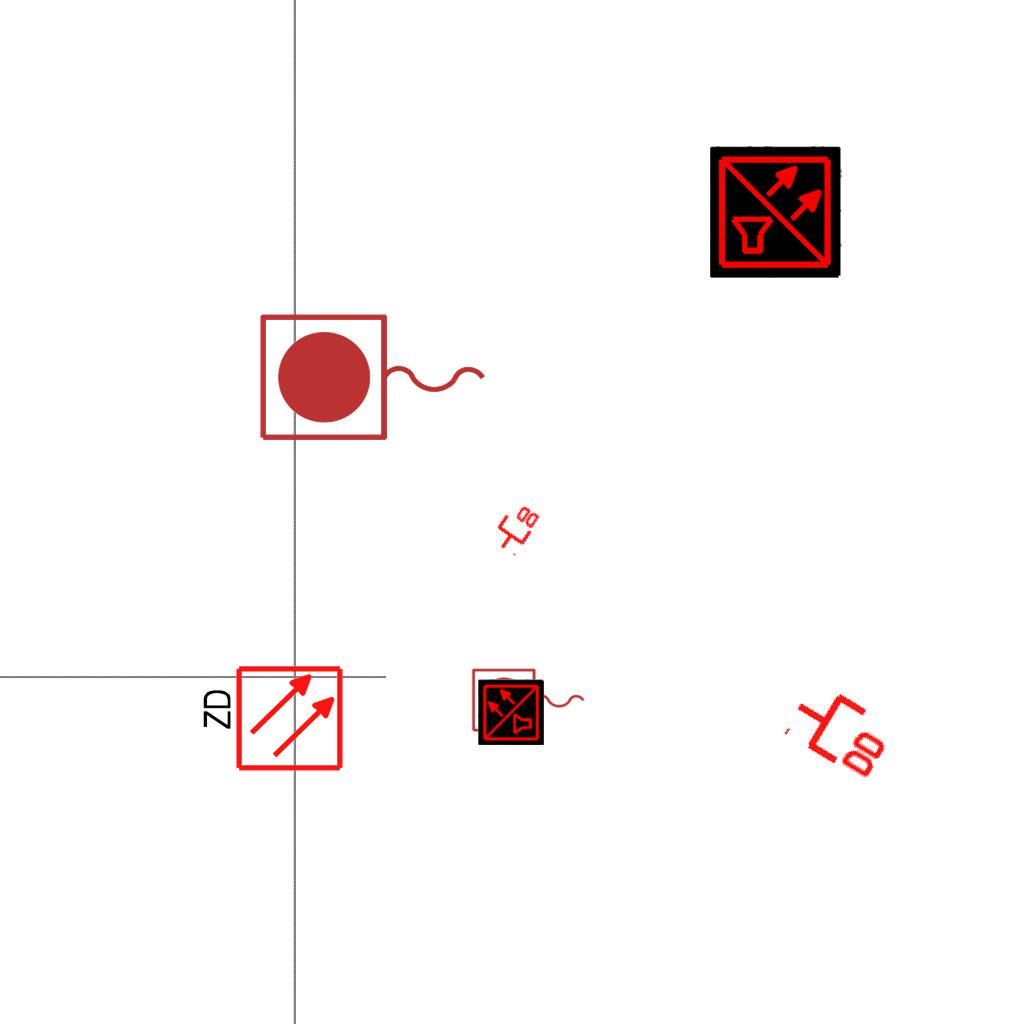Datenanschluss_zweifach: (779, 673, 904, 786), (486, 496, 544, 559)
OKW_Multisensormelder_(Kombination_optischer_Rauch-Kahlenmonoxid_Waerme-Melder): (710, 146, 842, 278), (478, 679, 544, 745)
ZD_Melder_in_Zwischendecke_mit_Revisionsoeffnung_mind_40_x_40_cm: (196, 663, 345, 777)
Zugtaster: (252, 307, 496, 451), (468, 665, 590, 737)
